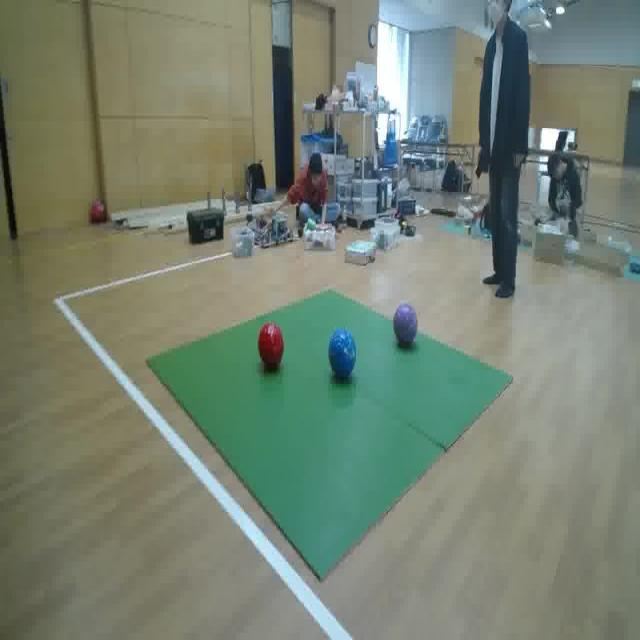blue_ball: (329, 327, 356, 377)
purple_ball: (394, 304, 417, 343)
red_ball: (258, 322, 284, 368)
